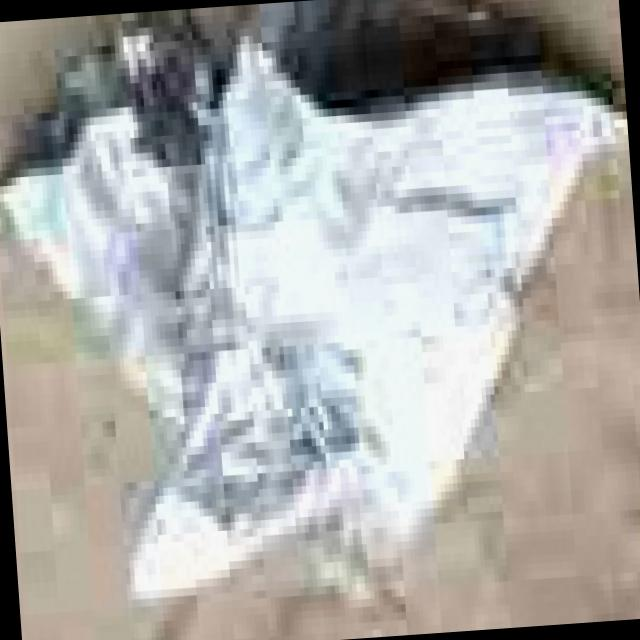kim_loai: (0, 0, 615, 599)
